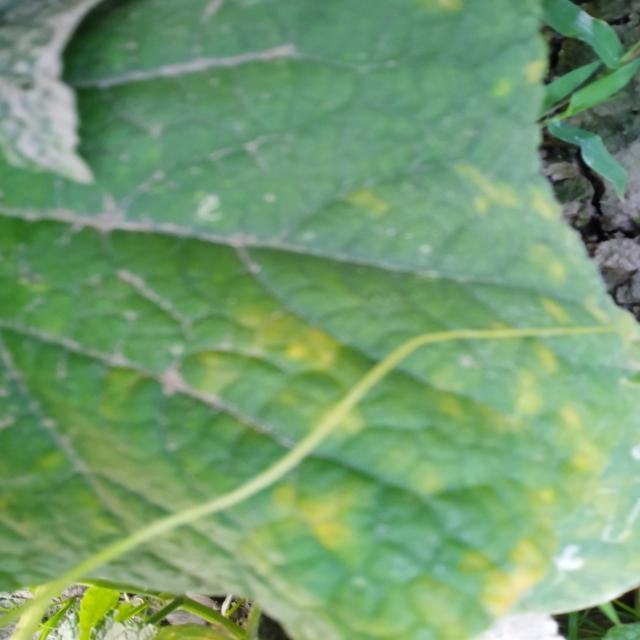cucumber_downy: (0, 173, 638, 606)
